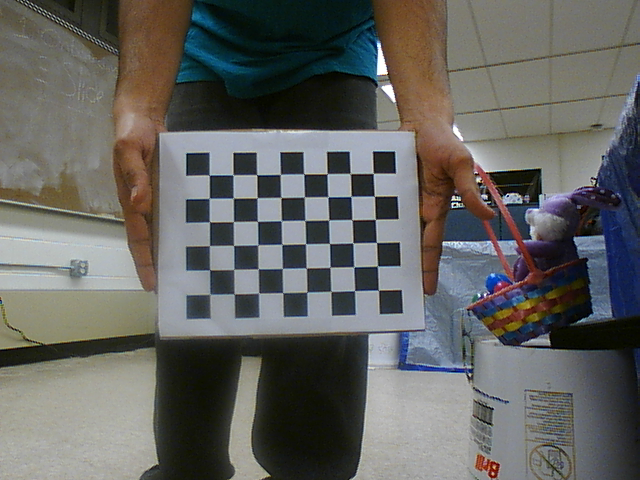bunny: (462, 153, 590, 350)
